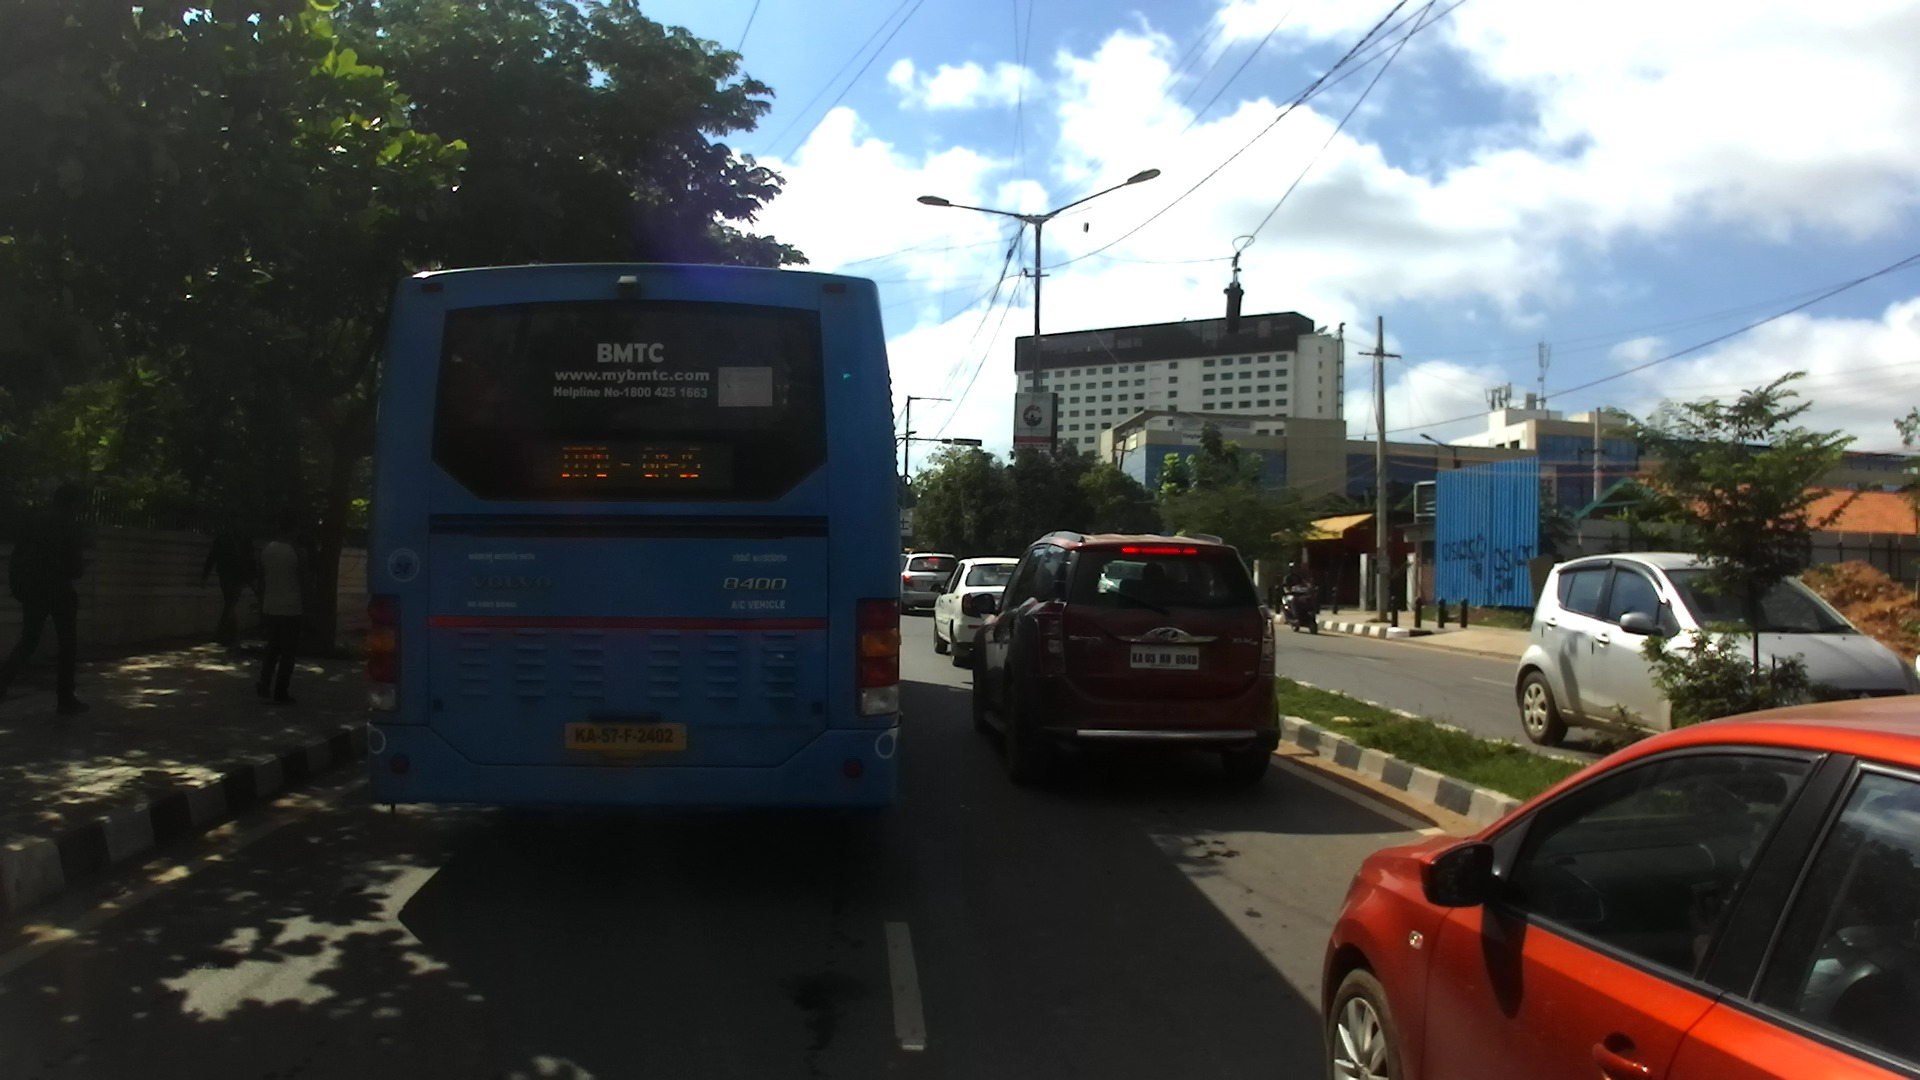bus: (362, 263, 901, 848)
car: (1320, 689, 1920, 1077), (1513, 553, 1919, 761), (970, 529, 1281, 786), (929, 557, 1044, 666), (903, 552, 965, 610)
motorcycle: (1280, 578, 1323, 634)
person: (6, 480, 97, 715), (254, 504, 317, 706), (201, 509, 261, 641)
rider: (1279, 561, 1315, 629)
traffic light: (942, 437, 982, 448)
